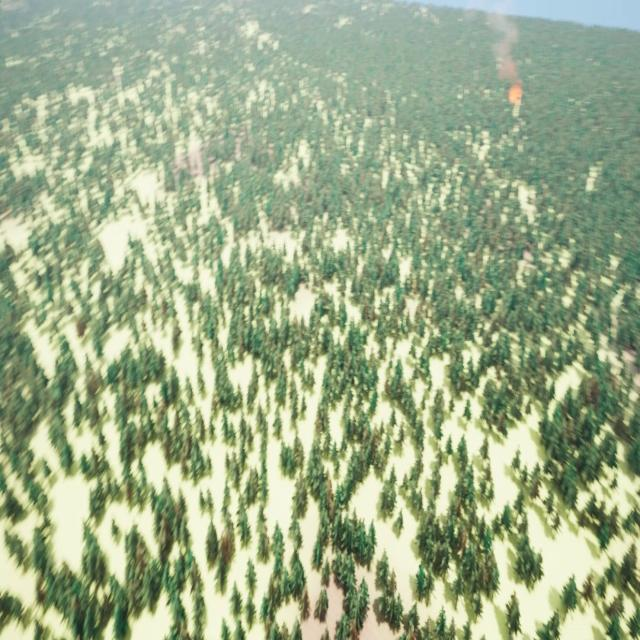fire: (510, 82, 524, 109)
smoke: (483, 3, 522, 79)
